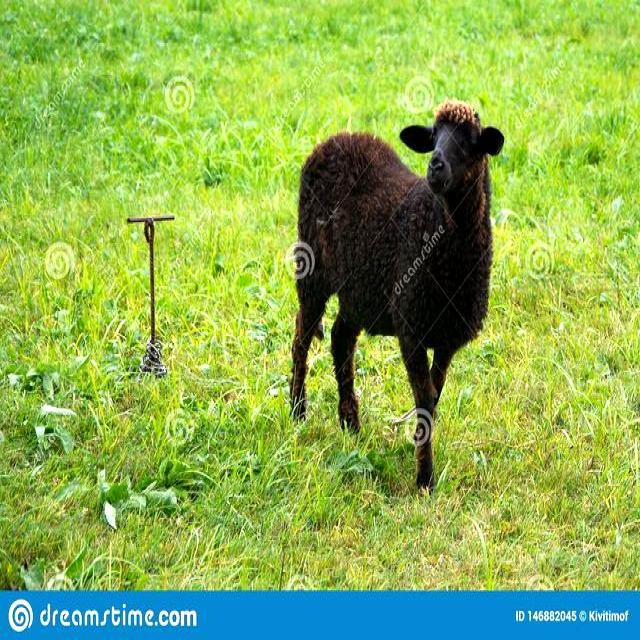sheep: (291, 91, 503, 493)
